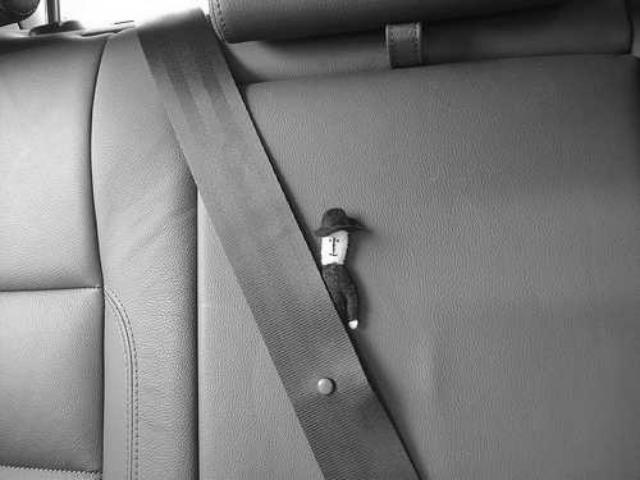Seatbelt: (135, 4, 429, 480)
